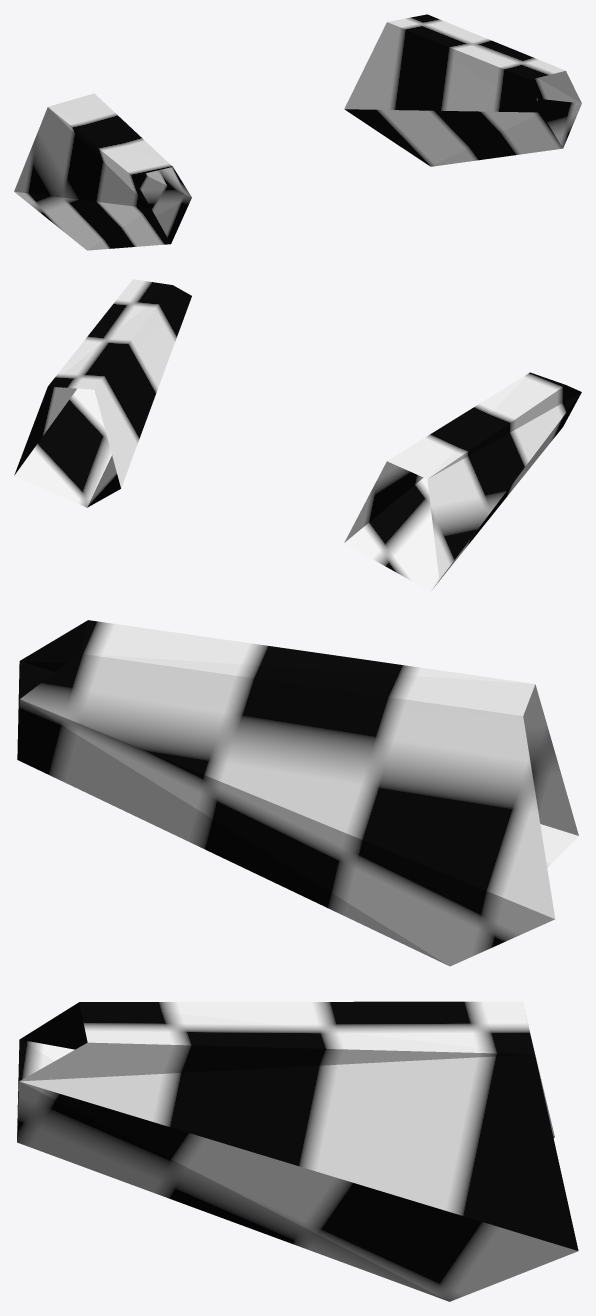
File: initargl12.dae
3 views of the same model, one above another, from view 1: azimuth 30°, elevation 25°; view 2: azimuth 150°, elevation 25°; view 3: azimuth 270°, elevation 25° (orthographic). The views are drawn at different scales.
Parts seen in each view (by area): view 1: armor; view 2: armor; view 3: armor.
Part boxes in pixels (left/top/right/bottom): armor: left=14, top=14, right=581, bottom=250; armor: left=14, top=279, right=581, bottom=591; armor: left=17, top=620, right=578, bottom=1301.
Bounding box in the file's own units: 1.18 × 0.6656 × 0.4002.
1 material, 1 textured.
